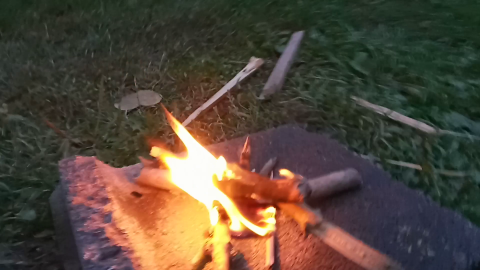fire: (141, 96, 255, 219)
